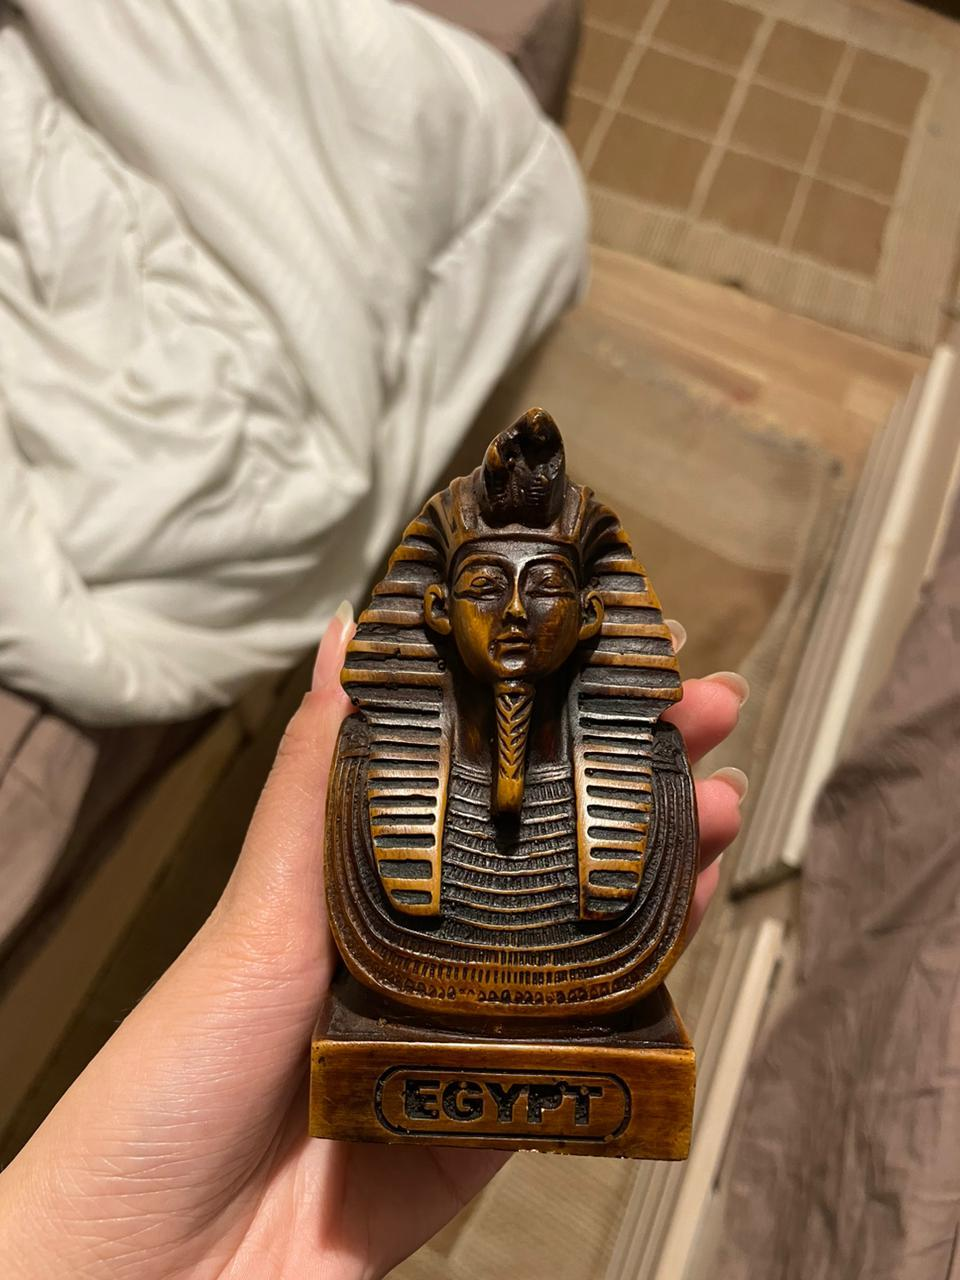Tut: (304, 402, 688, 1164)
